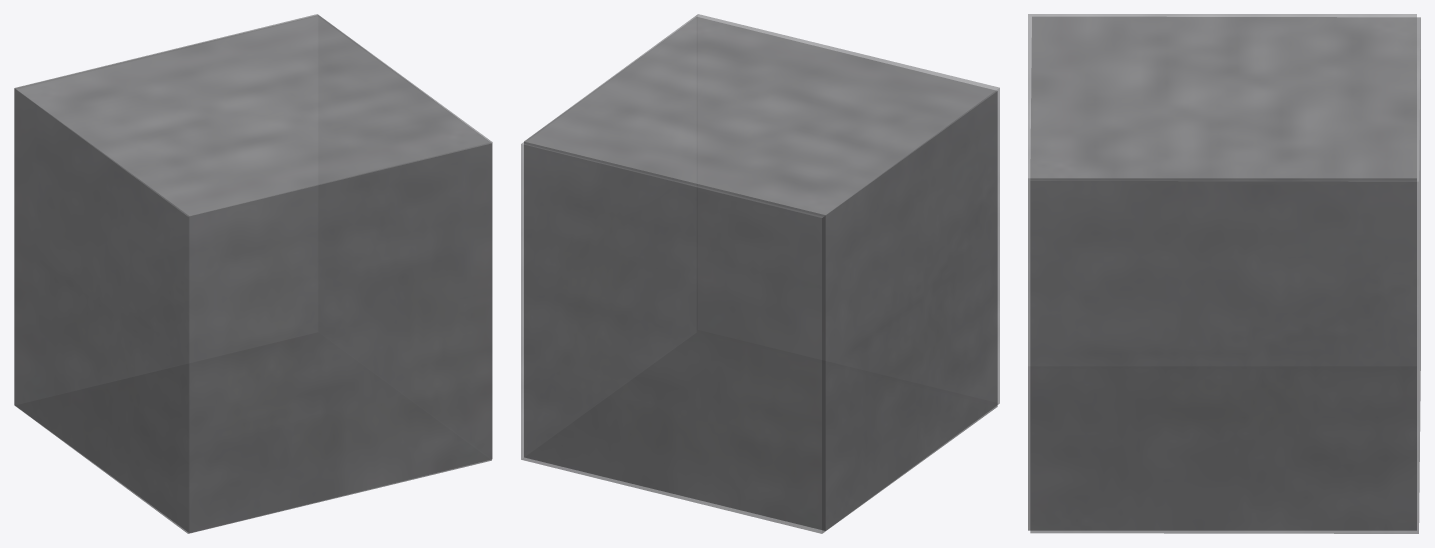
The model's file is stone_alpha.glb.
The picture shows the model from 3 angles, left to right: view 1: azimuth 30°, elevation 25°; view 2: azimuth 150°, elevation 25°; view 3: azimuth 270°, elevation 25°; orthographic projection. The views are drawn at different scales.
Visible parts, largest first — view 1: Object001_Object001_mtl_0001 (×2); view 2: Object001_Object001_mtl_0001 (×2); view 3: Object001_Object001_mtl_0001 (×2).
Boxes of the visible parts, box(x1,y1,x2,y2) form: Object001_Object001_mtl_0001 (×2): box(14, 14, 492, 533); Object001_Object001_mtl_0001 (×2): box(521, 14, 999, 533); Object001_Object001_mtl_0001 (×2): box(1028, 14, 1420, 533).
Bounding box in the file's own units: 0.3794 × 0.3796 × 0.3809.
Materials: 1 (1 with a texture image).
